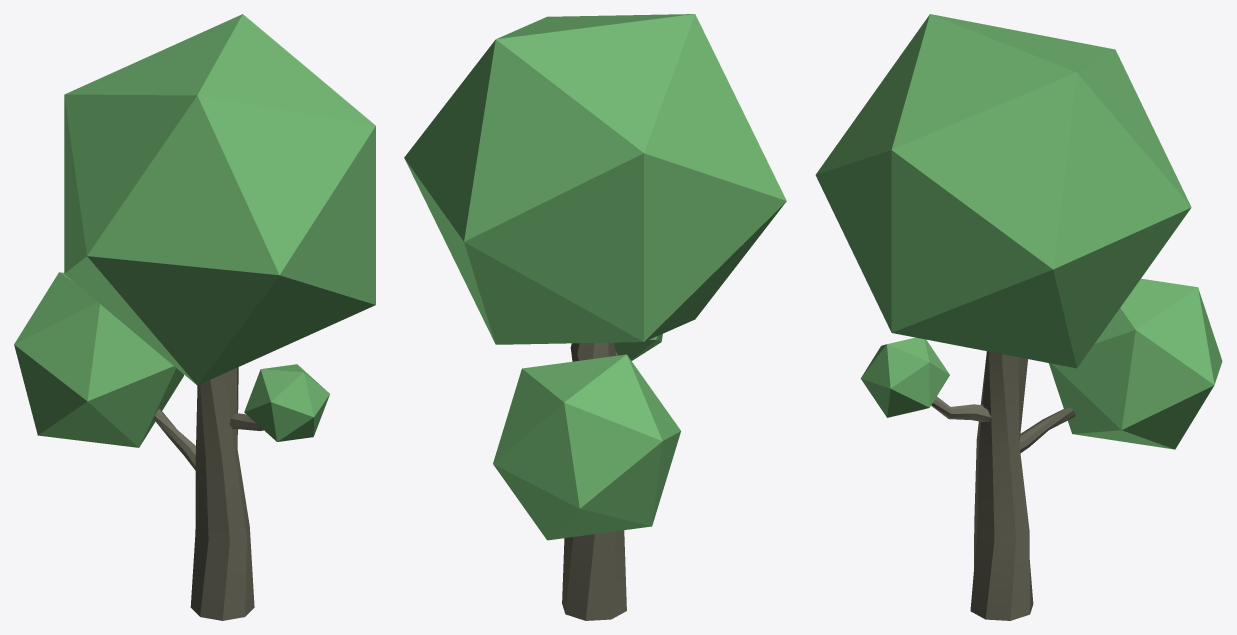
File: Tree.fbx
3 renders of one model, left to right at view 1: azimuth 30°, elevation 25°; view 2: azimuth 150°, elevation 25°; view 3: azimuth 270°, elevation 25°, orthographic. The views are drawn at different scales.
Parts seen in each view (by area): view 1: pPlatonic3, pPlatonic4, pCylinder2, pPlatonic5, pCylinder3; view 2: pPlatonic3, pPlatonic4, pCylinder2, pPlatonic5; view 3: pPlatonic3, pPlatonic4, pCylinder2, pPlatonic5, pCylinder3, pCylinder4.
Part boxes in pixels (x1=…): pPlatonic3: x1=64, y1=14, x2=375, y2=385; pPlatonic4: x1=14, y1=272, x2=183, y2=447; pCylinder2: x1=190, y1=367, x2=254, y2=620; pPlatonic5: x1=244, y1=364, x2=329, y2=441; pCylinder3: x1=153, y1=408, x2=195, y2=470; pPlatonic3: x1=404, y1=14, x2=786, y2=344; pPlatonic4: x1=493, y1=354, x2=680, y2=540; pCylinder2: x1=562, y1=342, x2=626, y2=620; pPlatonic5: x1=614, y1=334, x2=662, y2=360; pPlatonic3: x1=815, y1=14, x2=1191, y2=368; pPlatonic4: x1=1049, y1=278, x2=1222, y2=449; pCylinder2: x1=970, y1=351, x2=1033, y2=620; pPlatonic5: x1=860, y1=337, x2=949, y2=417; pCylinder3: x1=1019, y1=407, x2=1075, y2=453; pCylinder4: x1=931, y1=396, x2=991, y2=422.
Bounding box in the file's own units: 23.55 × 39.5 × 25.85.
